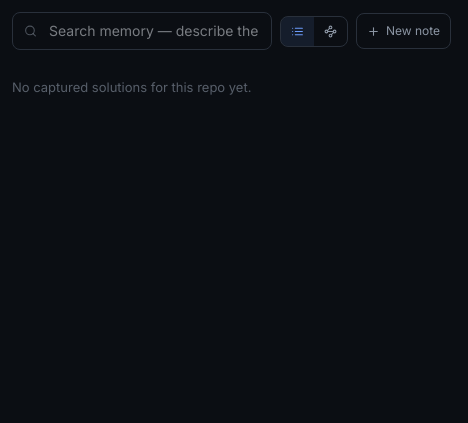
it: MemoryBrowser — note authoring › hints instead of offering autocomplete when the repo is not linked
Expected: the text "No captured solutions for this repo yet." is shown, [12,79,252,95]
Click the button "New note" at (404, 31), box [356,13,451,49]
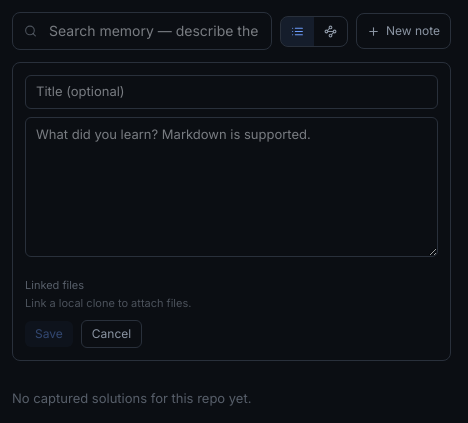
Now the text "Link a local clone to attach files." is shown, box [25,296,191,310]
